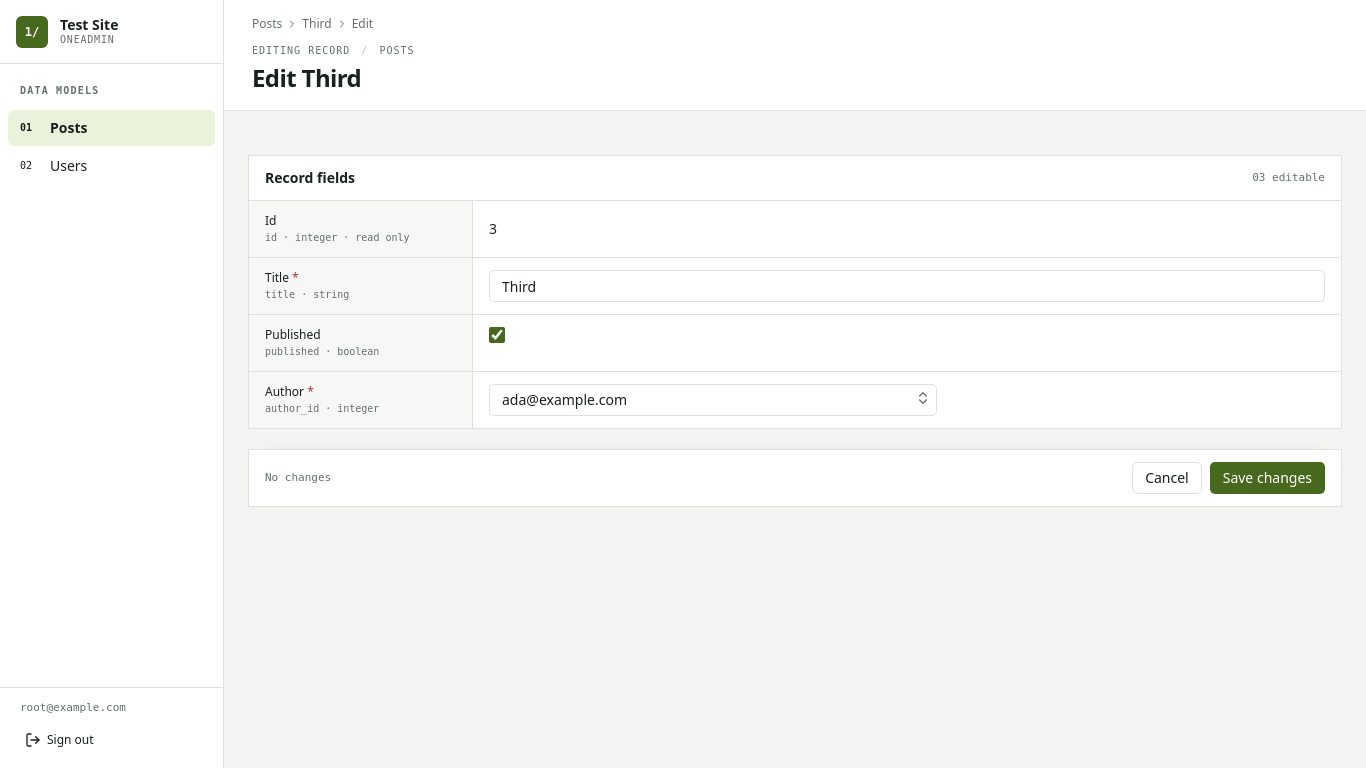
Test: editing › on a conflict, rebases onto the latest version and keeps the user's edits
The width and height of the screenshot is (1366, 768).
Replace the text in the field labelled "Title *" with "Mine" at (907, 286), box [489,270,1325,302]
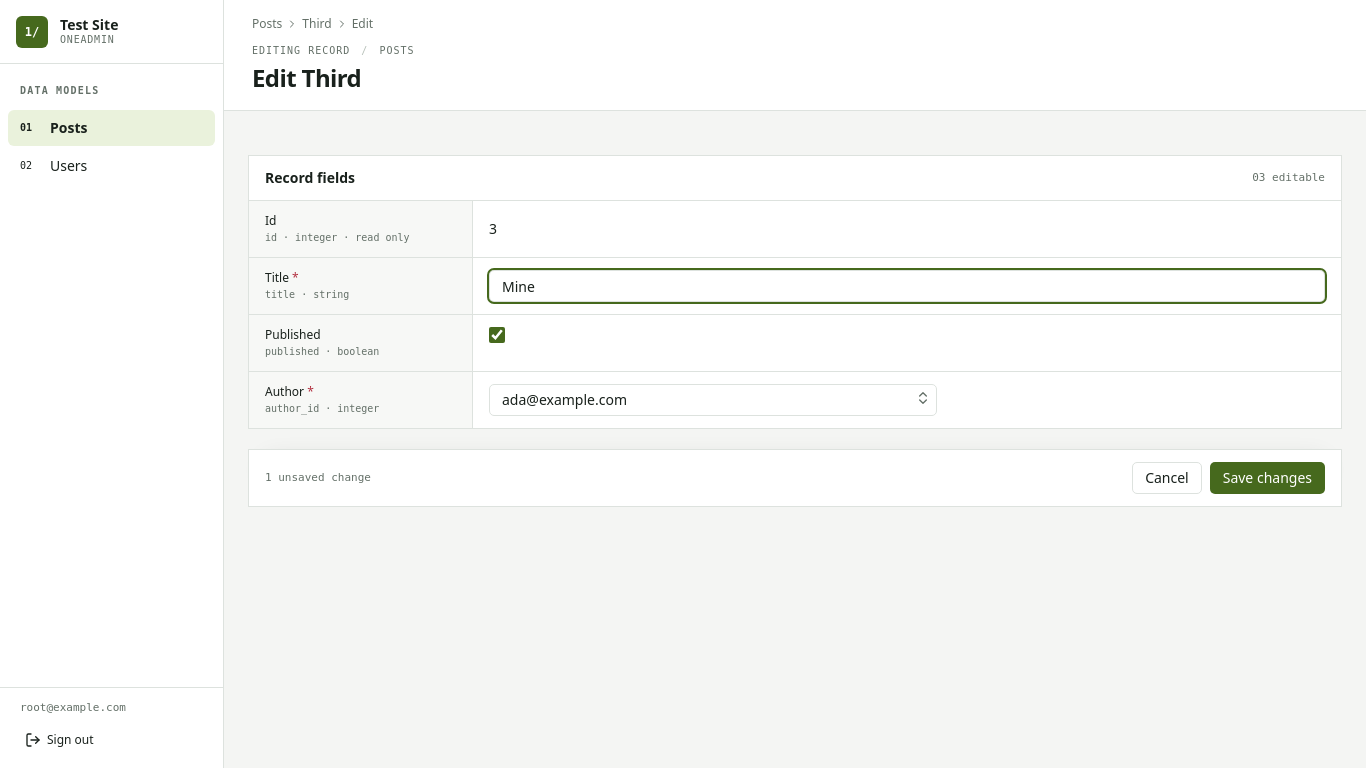
Click the button "Save changes" at (1267, 478), box [1210,462,1325,494]
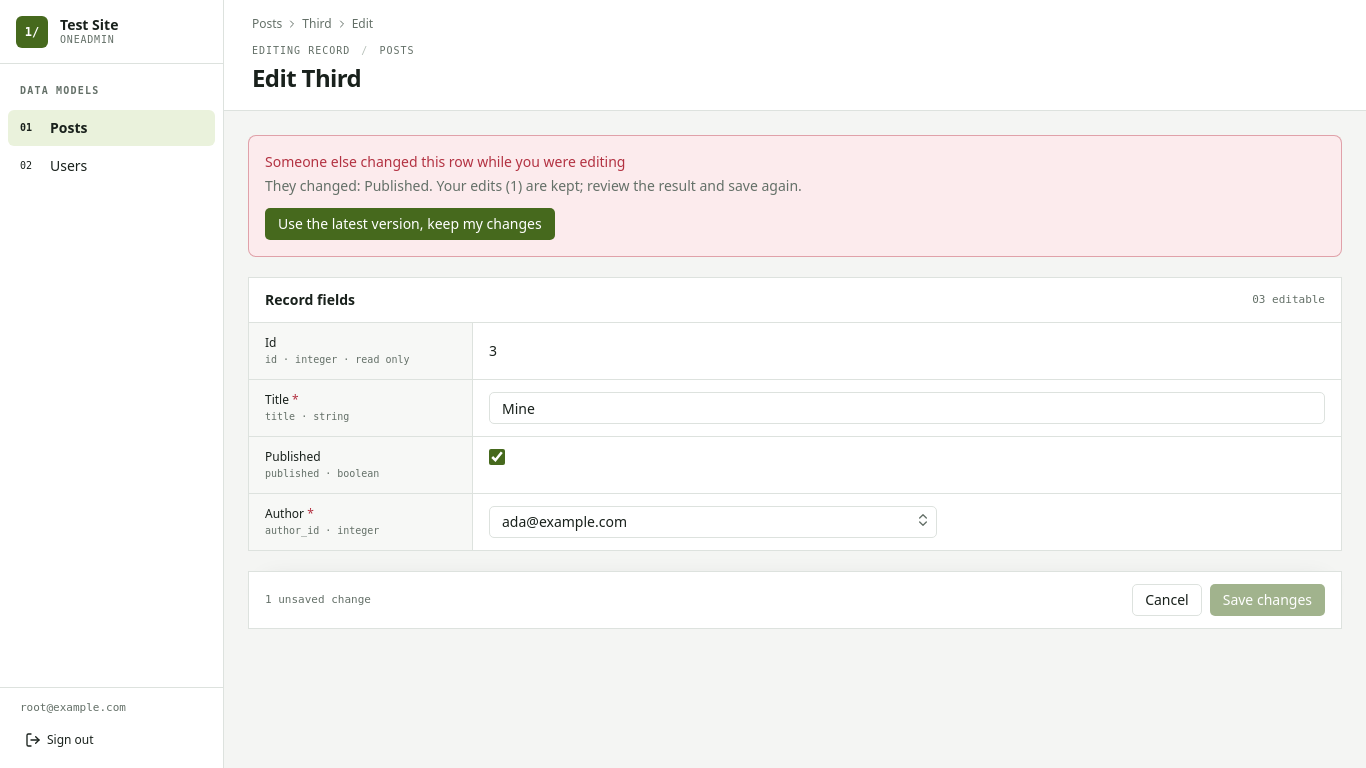
Expected: the text "Someone else changed this row while you were editing" is shown, [265,152,626,171]
Expected: the text "They changed: Published." is shown, [265,176,436,195]
Expected: the button "Save changes" is disabled, [1210,584,1325,616]
Click the button "Use the latest version, keep my changes" at (410, 224), box [265,208,555,240]
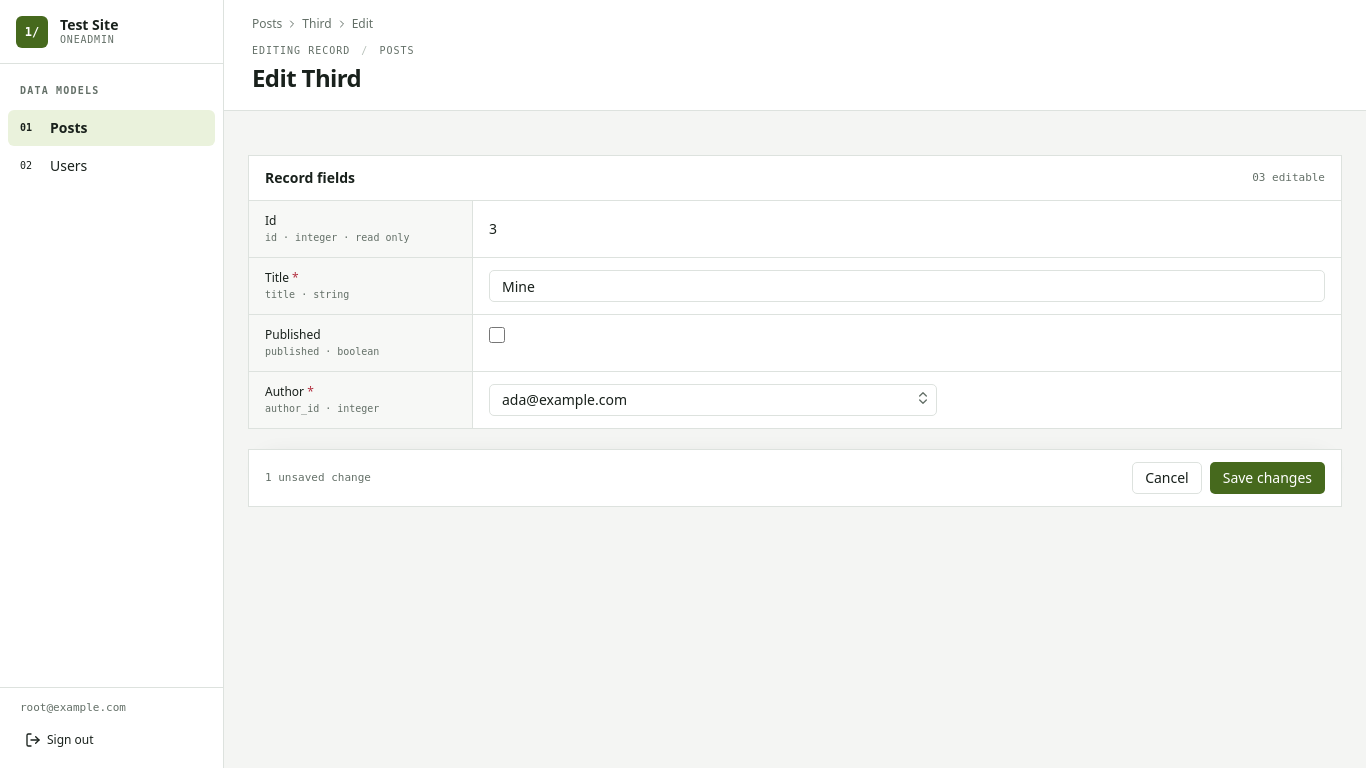
Expected: the checkbox labelled "Published" is not checked, [489,327,505,343]
Click the button "Save changes" at (1267, 478), box [1210,462,1325,494]
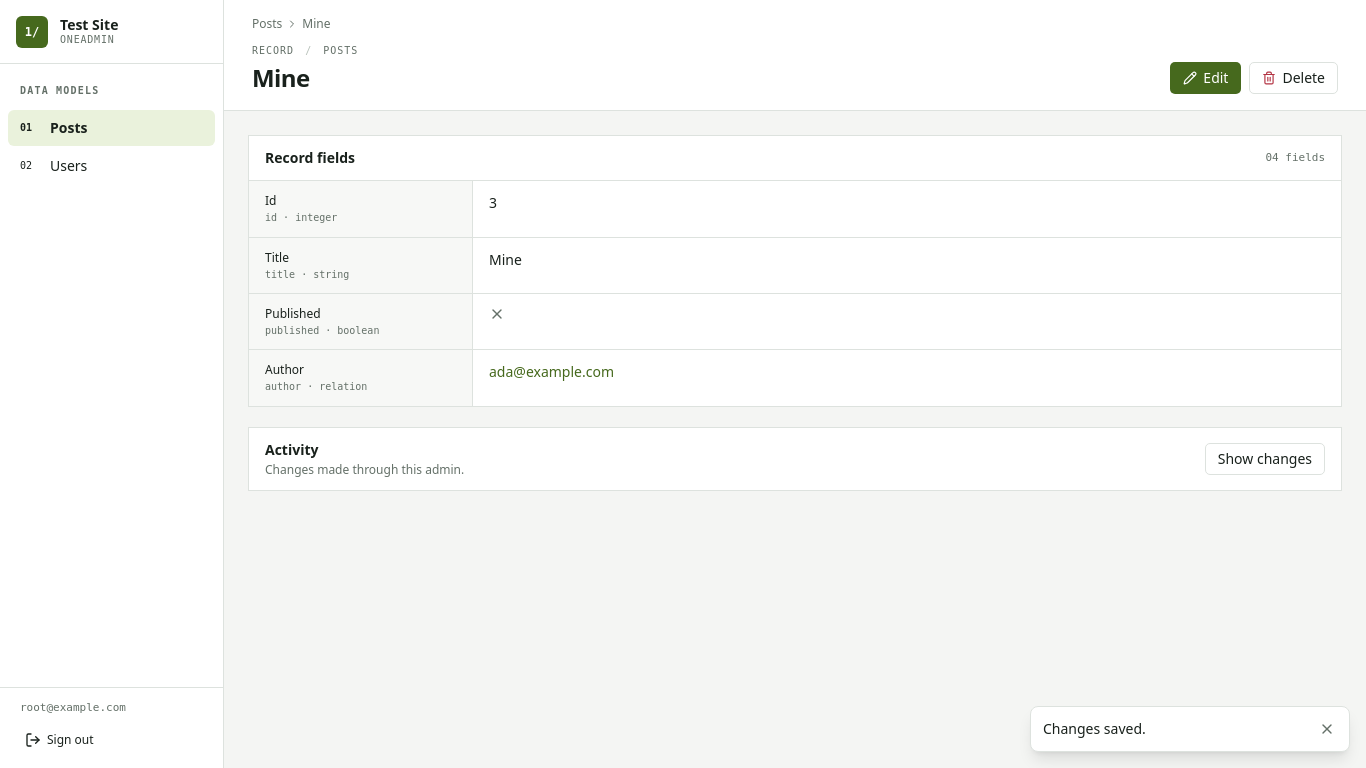
Expected: the heading "Mine" is shown, [252,61,310,94]
